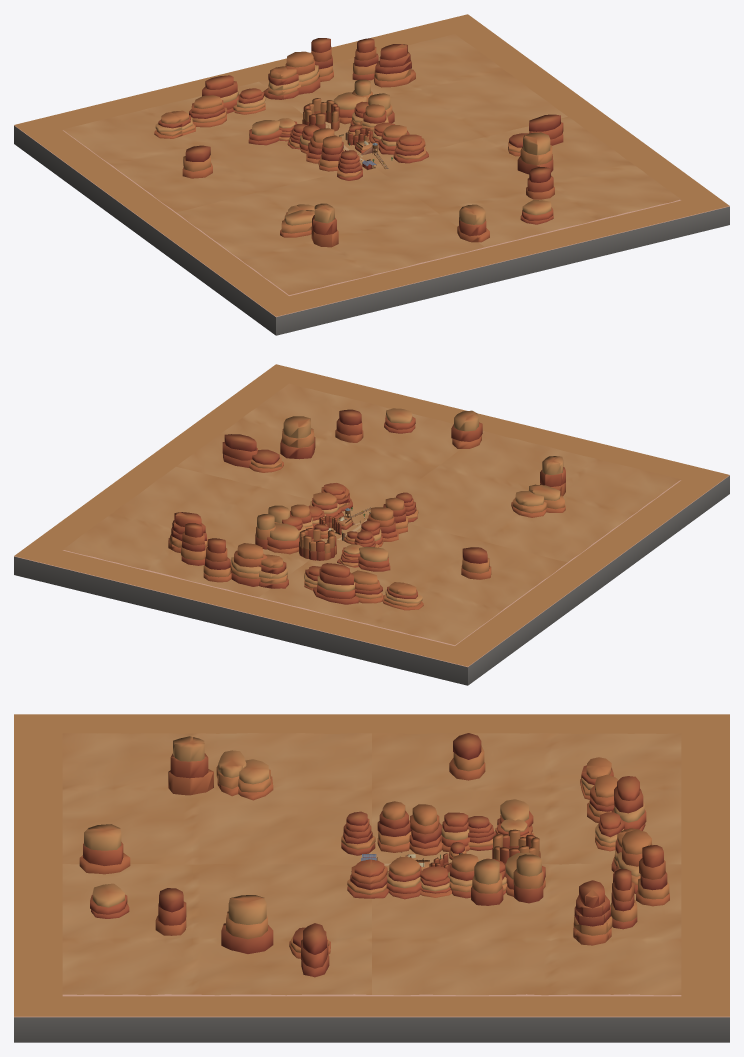
The picture shows the model from 3 angles, top to bottom: view 1: azimuth 30°, elevation 25°; view 2: azimuth 150°, elevation 25°; view 3: azimuth 270°, elevation 25°; orthographic projection. The views are drawn at different scales.
Parts seen in each view (by area): view 1: near-placeholder; view 2: near-placeholder; view 3: near-placeholder.
Part boxes in pixels (x1=…): near-placeholder: x1=14, y1=14, x2=729, y2=335; near-placeholder: x1=14, y1=364, x2=729, y2=685; near-placeholder: x1=14, y1=714, x2=729, y2=1042.
Size of the model in its own units: 500 by 58.2 by 500.
